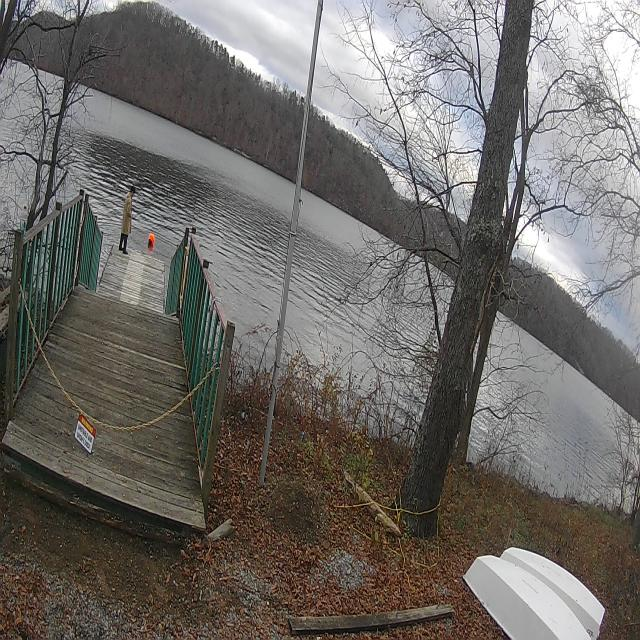Buoy: (148, 231, 156, 247)
